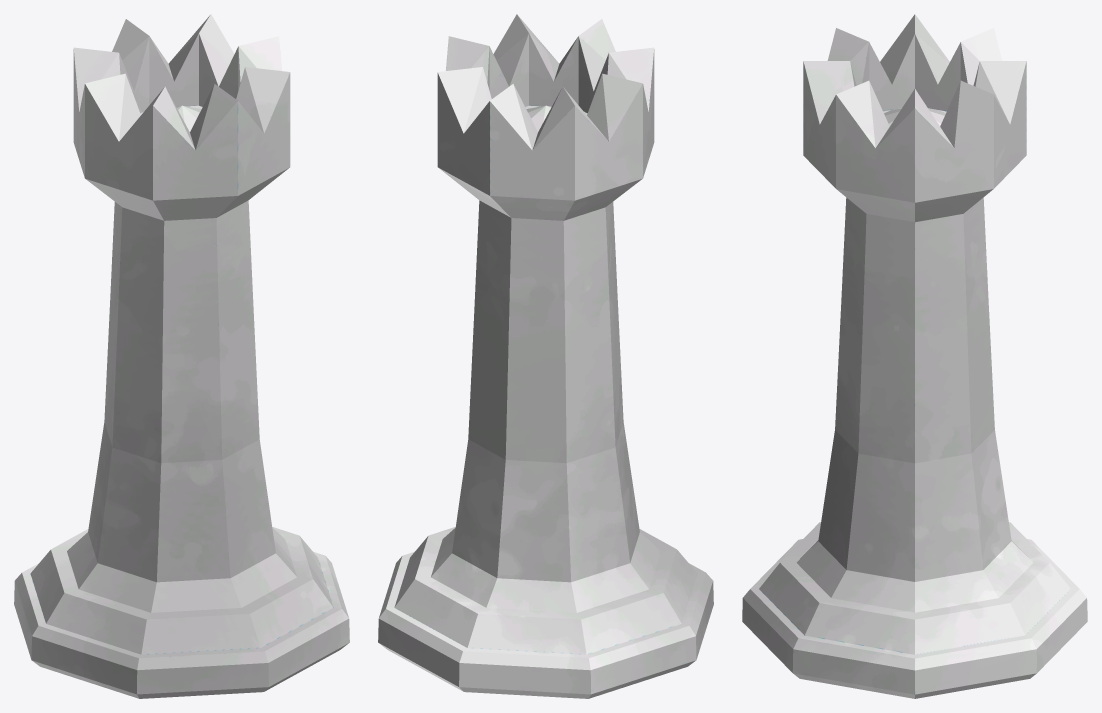
File: Rook.fbx
The picture shows the model from 3 angles, left to right: view 1: azimuth 30°, elevation 25°; view 2: azimuth 150°, elevation 25°; view 3: azimuth 270°, elevation 25°; orthographic projection.
Visible parts, largest first — view 1: node_id30; view 2: node_id30; view 3: node_id30.
Boxes of the visible parts, x1=… form: node_id30: x1=14, y1=14, x2=349, y2=698; node_id30: x1=378, y1=14, x2=713, y2=698; node_id30: x1=742, y1=14, x2=1087, y2=698.
Size of the model in its own units: 229 by 416 by 229.
